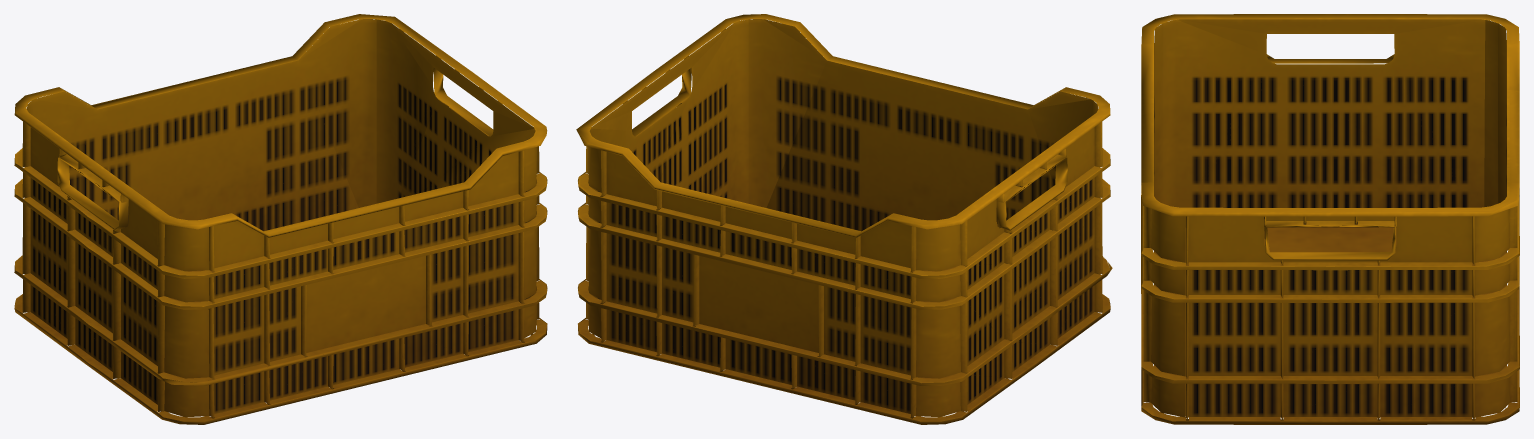
Rendered from ph_plastic_crate_02.glb.
3 views of the same model, side by side, from view 1: azimuth 30°, elevation 25°; view 2: azimuth 150°, elevation 25°; view 3: azimuth 270°, elevation 25° (orthographic). The views are drawn at different scales.
Visible parts, largest first — view 1: plastic_crate_02; view 2: plastic_crate_02; view 3: plastic_crate_02.
Part boxes in pixels (x1,y1,x2,y2): plastic_crate_02: (14, 14, 547, 424); plastic_crate_02: (576, 14, 1112, 424); plastic_crate_02: (1141, 14, 1519, 424).
Bounding box in the file's own units: 0.5055 × 0.2541 × 0.4053.
Materials: 1 (1 with a texture image).
